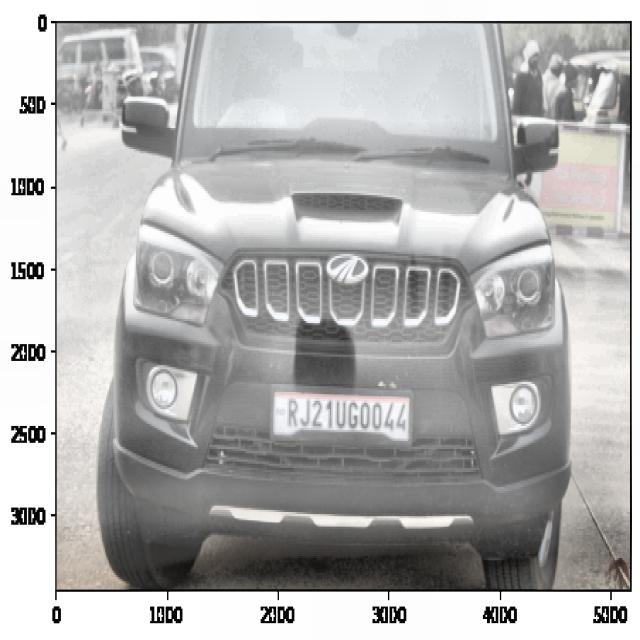license_plate: (280, 388, 410, 440)
